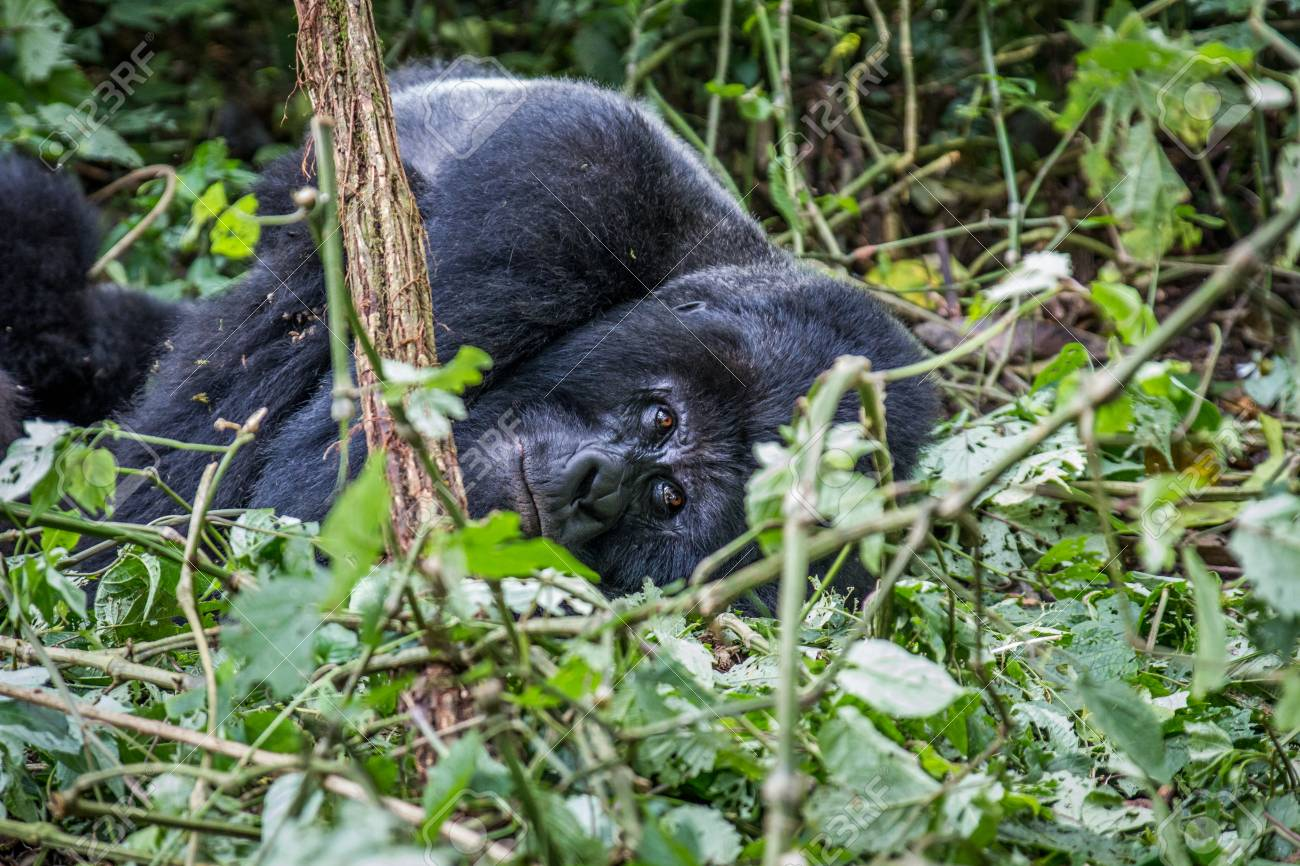Goriila: (134, 74, 934, 608)
